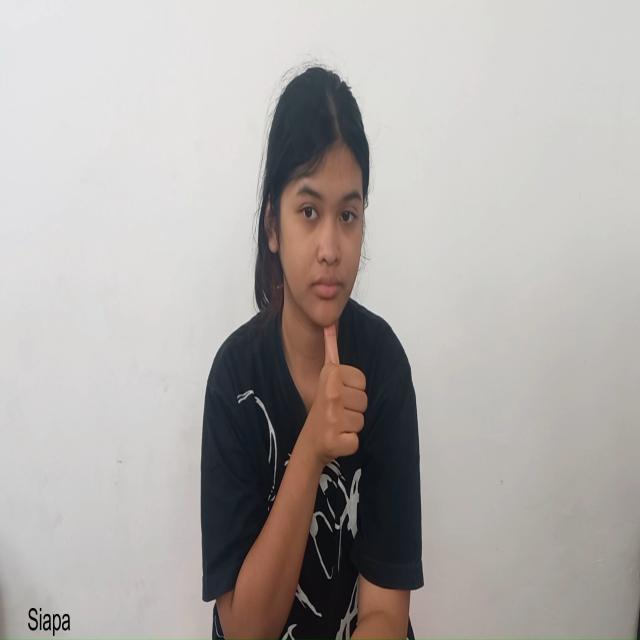Siapa -BISINDO-: (257, 64, 394, 464)
